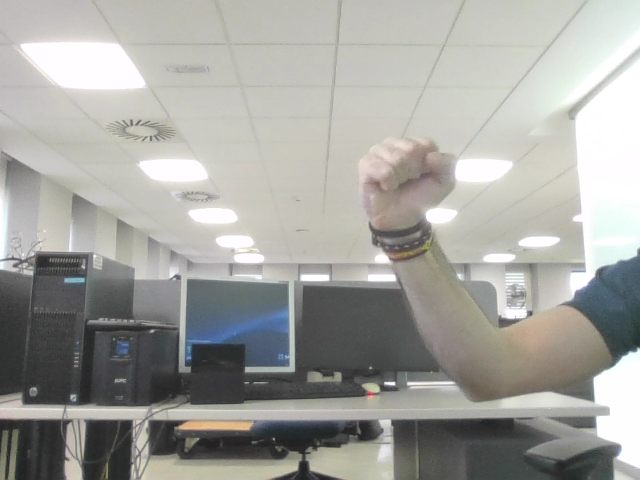Puño: (368, 144, 440, 198)
